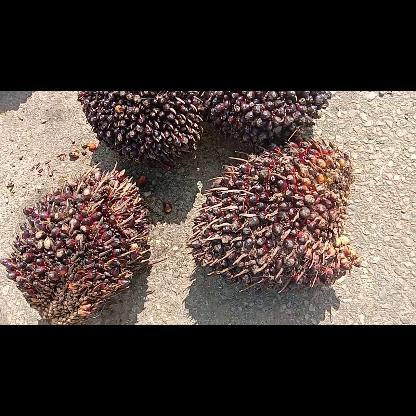TBS mentah: (0, 162, 166, 324), (188, 137, 360, 293), (77, 91, 211, 169), (203, 91, 331, 151)
